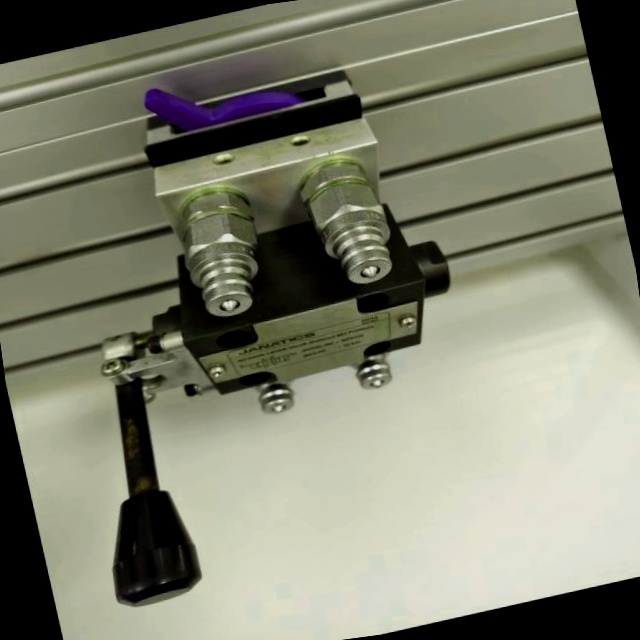4by3 hand lever valve: (4, 25, 520, 622)
